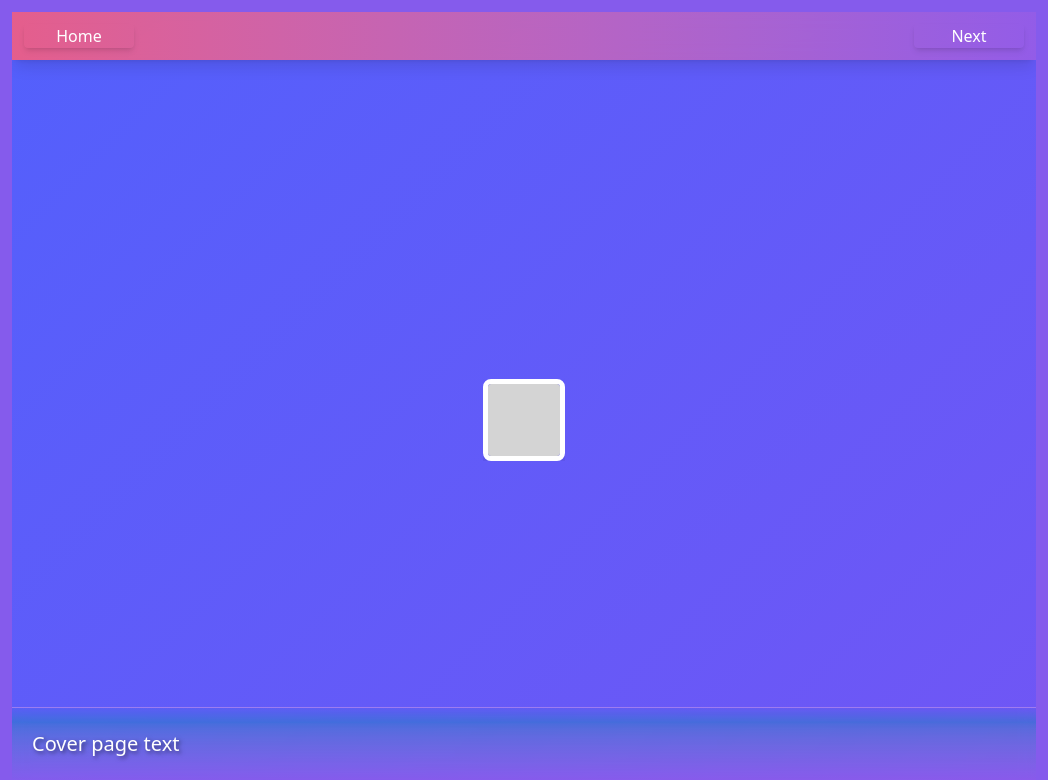
Book Component › Text Overlay › shows correct text for each page
This screenshot has width=1048, height=780.
Check: the text "Cover page text" is shown, box [12, 706, 1036, 779]
# Navigate to page 1 using the nav button specifically
Click the button with aria-label "next page".
click(969, 36)  # box [914, 24, 1024, 48]
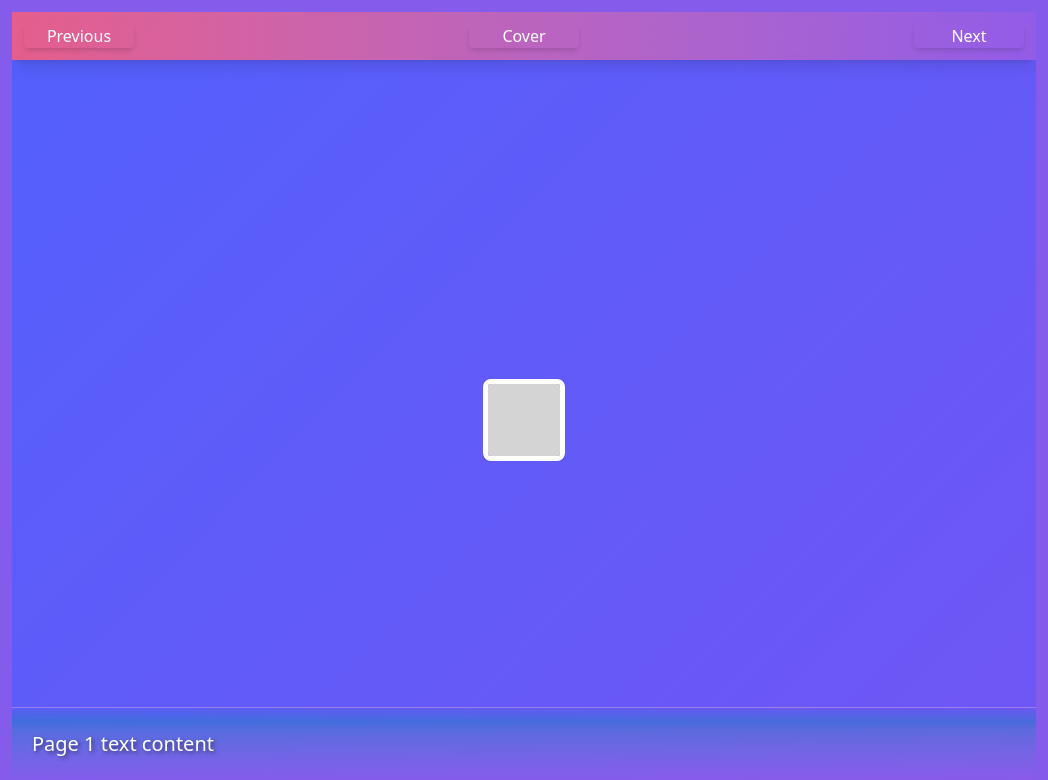
Check: the text "Page 1 text content" is shown, box [12, 706, 1036, 779]
